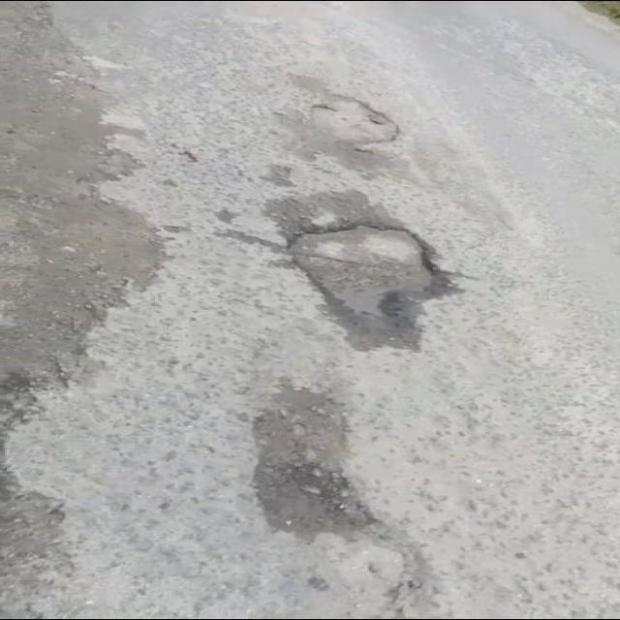lubang: (0, 2, 160, 450), (288, 223, 456, 347), (255, 385, 376, 535), (0, 463, 93, 617), (303, 92, 400, 161)
